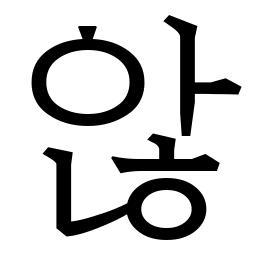Gaji: (166, 65, 217, 110)
